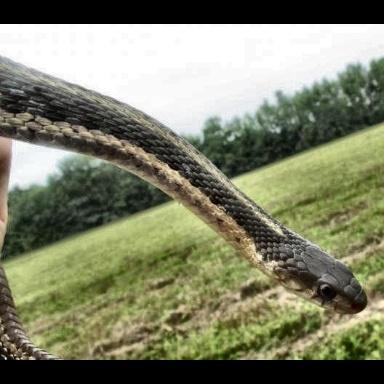snake: (0, 56, 367, 316)
